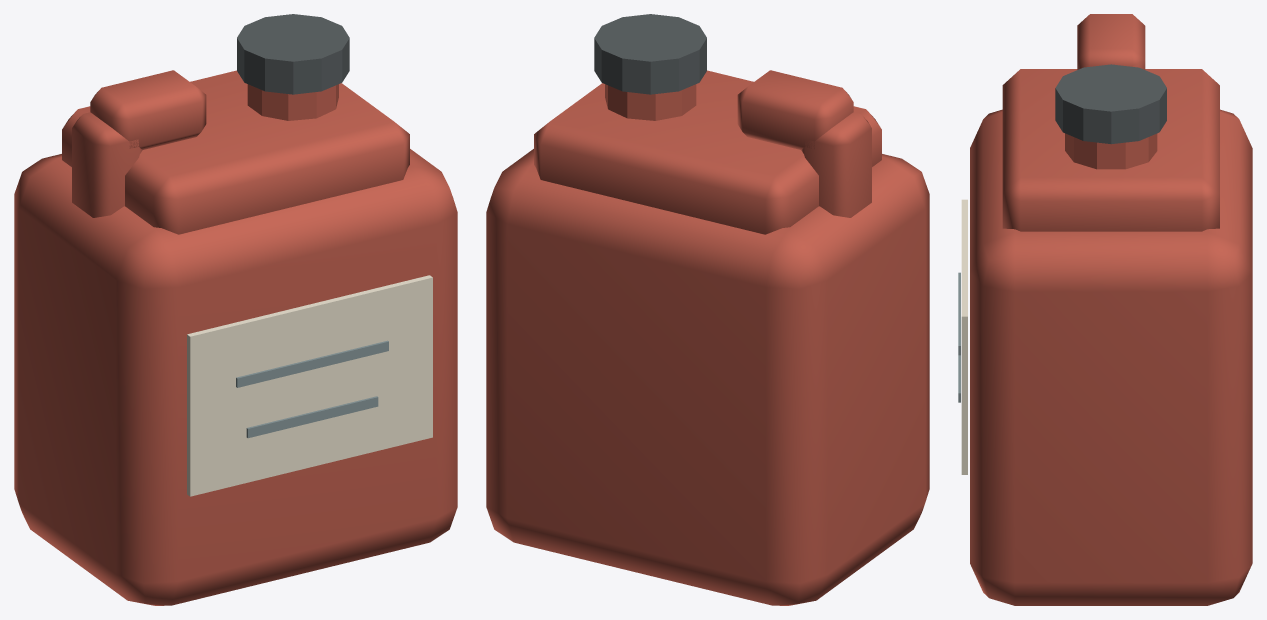
File: Equipment_FuelCan.fbx
The picture shows the model from 3 angles, left to right: view 1: azimuth 30°, elevation 25°; view 2: azimuth 150°, elevation 25°; view 3: azimuth 270°, elevation 25°; orthographic projection.
Visible parts, largest first — view 1: G15_rounded jug body, G15_print label, G15_shoulder, G15_screw cap, G15_handle top, G15_handle leg, G15_neck, G15_printed form line, G15_printed form line.001; view 2: G15_rounded jug body, G15_shoulder, G15_screw cap, G15_handle top, G15_handle leg, G15_neck; view 3: G15_rounded jug body, G15_shoulder, G15_screw cap, G15_handle top, G15_neck, G15_print label.
Boxes of the visible parts, box(x1,y1,x2,y2) form: G15_rounded jug body: box(14, 149, 457, 605); G15_print label: box(187, 275, 432, 496); G15_shoulder: box(62, 70, 409, 234); G15_screw cap: box(237, 14, 349, 94); G15_handle top: box(90, 70, 206, 149); G15_handle leg: box(72, 112, 142, 217); G15_neck: box(247, 84, 338, 120); G15_printed form line: box(236, 340, 388, 387); G15_printed form line.001: box(246, 396, 378, 438); G15_rounded jug body: box(486, 149, 929, 605); G15_shoulder: box(534, 70, 881, 234); G15_screw cap: box(594, 14, 706, 94); G15_handle top: box(737, 70, 853, 149); G15_handle leg: box(801, 112, 871, 217); G15_neck: box(605, 84, 696, 120); G15_rounded jug body: box(970, 109, 1252, 605); G15_shoulder: box(1002, 69, 1219, 231); G15_screw cap: box(1055, 64, 1166, 144); G15_handle top: box(1077, 14, 1145, 69); G15_neck: box(1065, 133, 1157, 169); G15_print label: box(961, 199, 967, 474).
Bounding box in the file's own units: 0.3 × 0.414 × 0.229.
